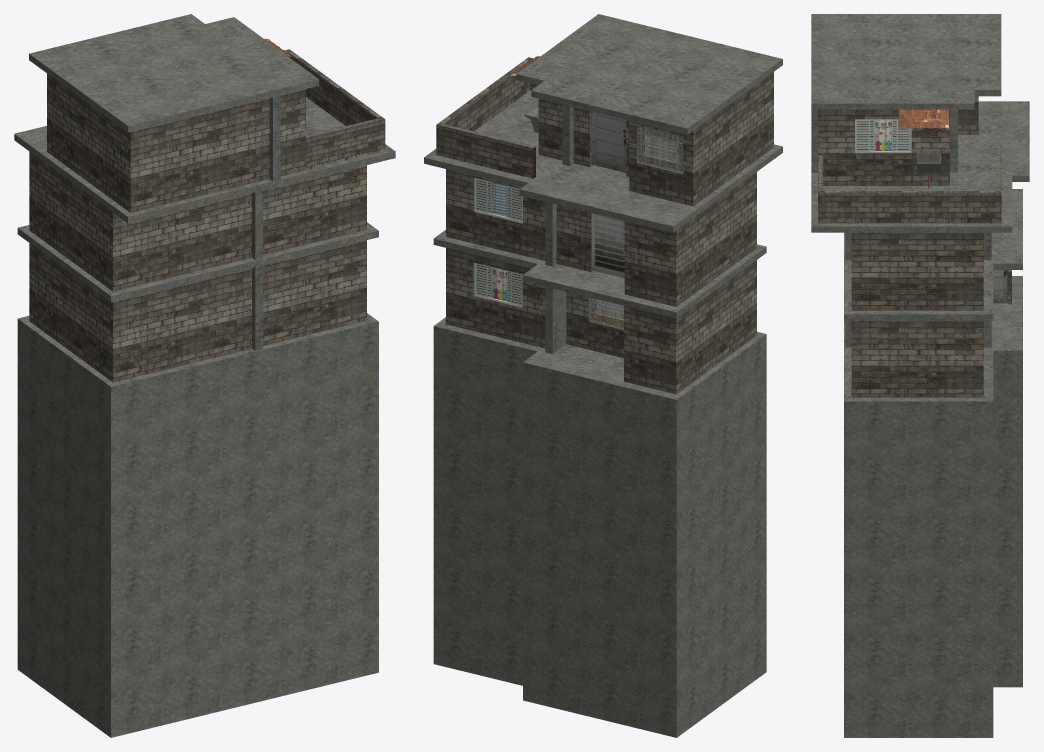
The model's file is barraco_rds_80.obj.
3 views of the same model, side by side, from view 1: azimuth 30°, elevation 25°; view 2: azimuth 150°, elevation 25°; view 3: azimuth 270°, elevation 25° (orthographic). The views are drawn at different scales.
Visible parts, largest first — view 1: fav_brkk_barraco_03b; view 2: fav_brkk_barraco_03b; view 3: fav_brkk_barraco_03b.
Part boxes in pixels (x1,y1,x2,y2): fav_brkk_barraco_03b: [14, 14, 395, 737]; fav_brkk_barraco_03b: [424, 14, 782, 737]; fav_brkk_barraco_03b: [811, 14, 1029, 737].
Bounding box in the file's own units: 9.1 × 20.26 × 6.69.
15 materials, 15 textured.
